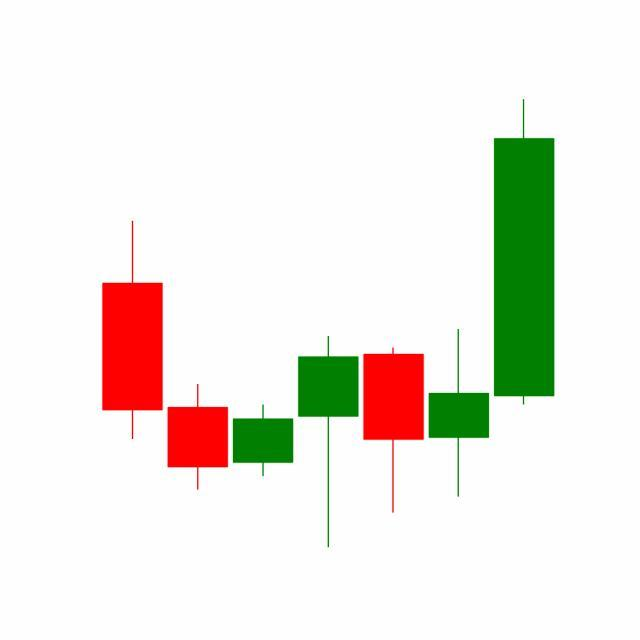Hikkake Pattern: (165, 326, 492, 549)
